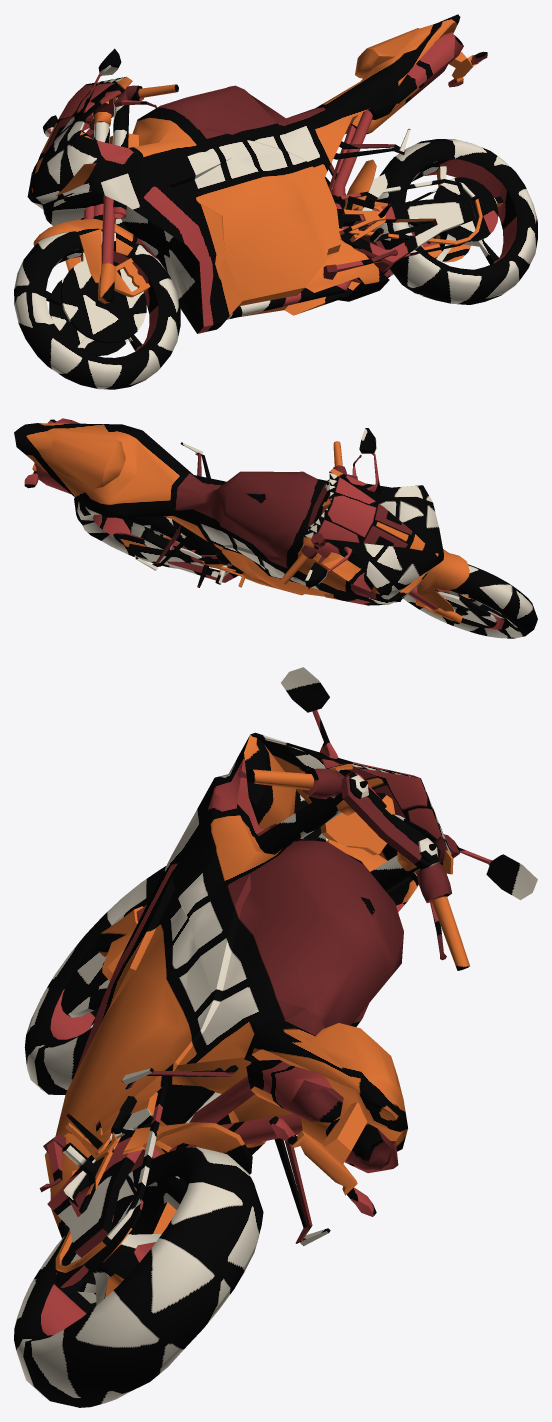
File: enemy.obj
3 renders of one model, top to bottom at view 1: azimuth 30°, elevation 25°; view 2: azimuth 150°, elevation 25°; view 3: azimuth 270°, elevation 25°, orthographic. The views are drawn at different scales.
Parts seen in each view (by area): view 1: Kawasaki_Ninja_ZX-6R; view 2: Kawasaki_Ninja_ZX-6R; view 3: Kawasaki_Ninja_ZX-6R.
Part boxes in pixels (x1,y1,x2,y2): Kawasaki_Ninja_ZX-6R: [14, 14, 537, 389]; Kawasaki_Ninja_ZX-6R: [14, 418, 537, 638]; Kawasaki_Ninja_ZX-6R: [14, 667, 537, 1407].
Bounding box in the file's own units: 2.64 × 1.36 × 1.35.
Materials: 1 (1 with a texture image).
